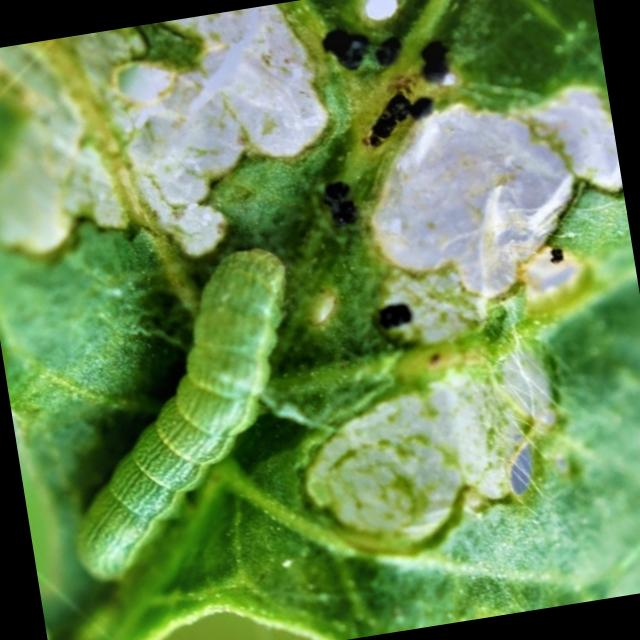Armyworm: (24, 232, 334, 581)
Armyworm_damage: (288, 309, 629, 566), (342, 70, 640, 348), (98, 1, 361, 265)
